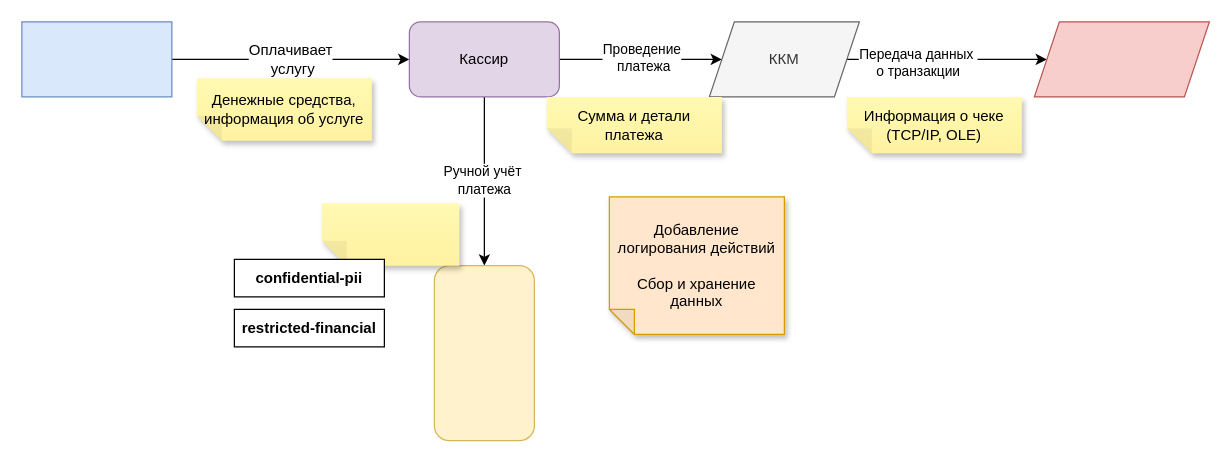
Some shapes in this 1231 by 463 pixel diagram are drawn without their labels. The centre of each missing label's shape, as x and y in pixels:
«1С:Бухгалтерия предприятия»: point (1121, 59)
Локальный Excel-файл: point (483, 352)
Пациент: point (96, 59)
Сумма, Ф.И.О. пациента, услуга: point (391, 236)
